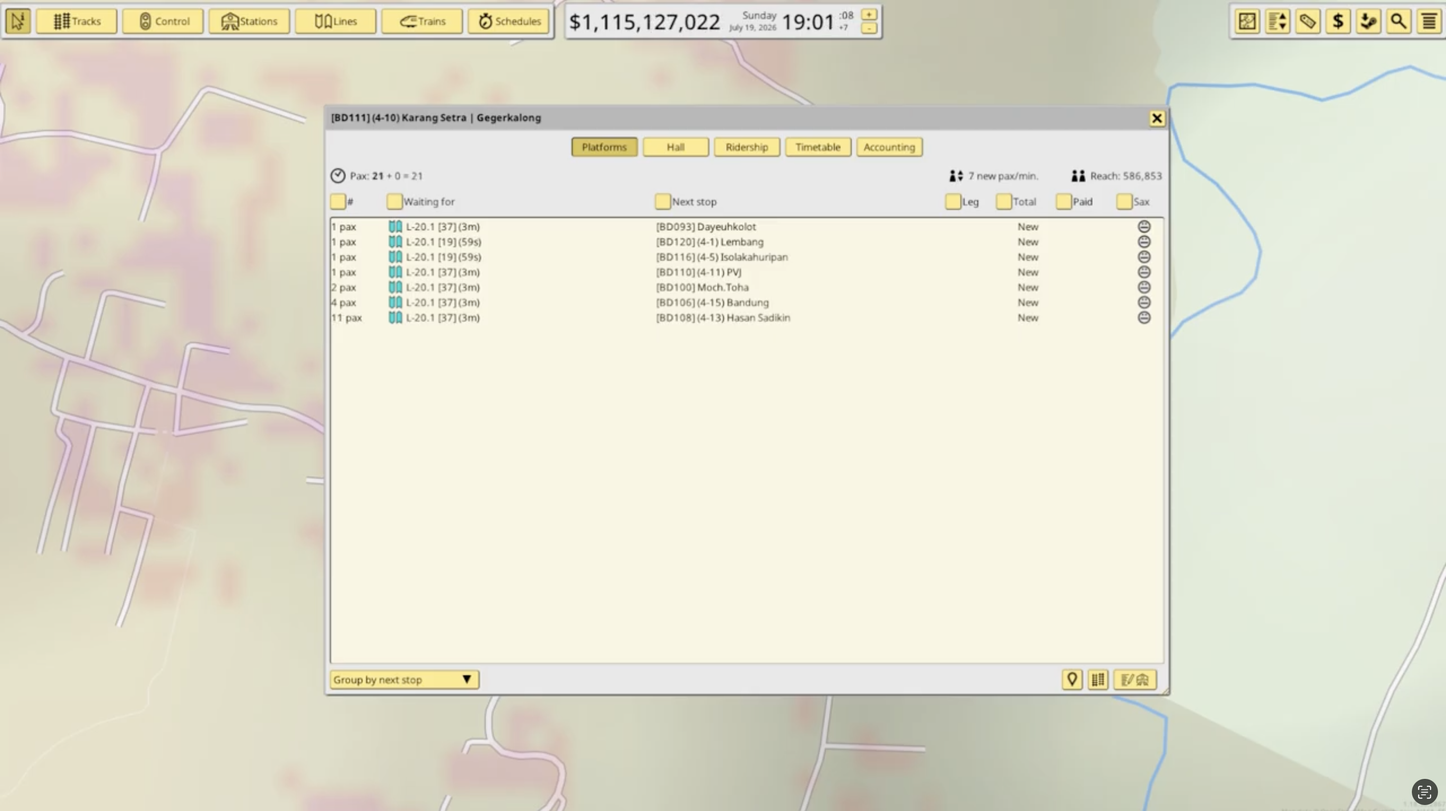passenger_increase: (332, 314, 362, 324), (332, 223, 357, 233), (332, 253, 357, 263), (331, 283, 356, 293), (331, 298, 356, 308), (332, 238, 356, 248), (332, 268, 356, 278)
station_id: (656, 312, 695, 324), (656, 222, 695, 233), (656, 252, 695, 263), (656, 282, 695, 293), (657, 267, 695, 278), (656, 298, 695, 308), (656, 238, 694, 248)
station_name: (720, 252, 789, 264), (698, 222, 757, 233), (727, 313, 790, 323), (727, 297, 769, 309), (697, 283, 749, 292), (720, 238, 764, 248), (727, 268, 741, 278)
station_numbering: (696, 298, 725, 308), (697, 313, 725, 323), (697, 268, 725, 277), (697, 238, 719, 248), (697, 253, 718, 262)
time: (782, 10, 859, 31)
